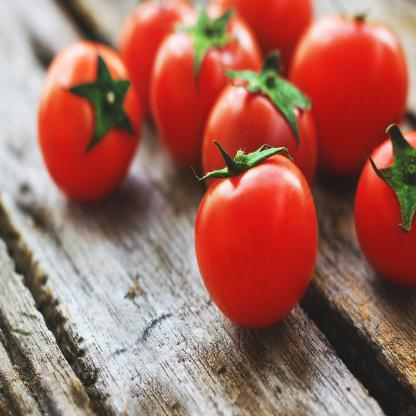tomato: (195, 142, 319, 329), (289, 15, 407, 179), (151, 18, 266, 168), (39, 46, 142, 201), (203, 67, 320, 196), (356, 127, 416, 287)
